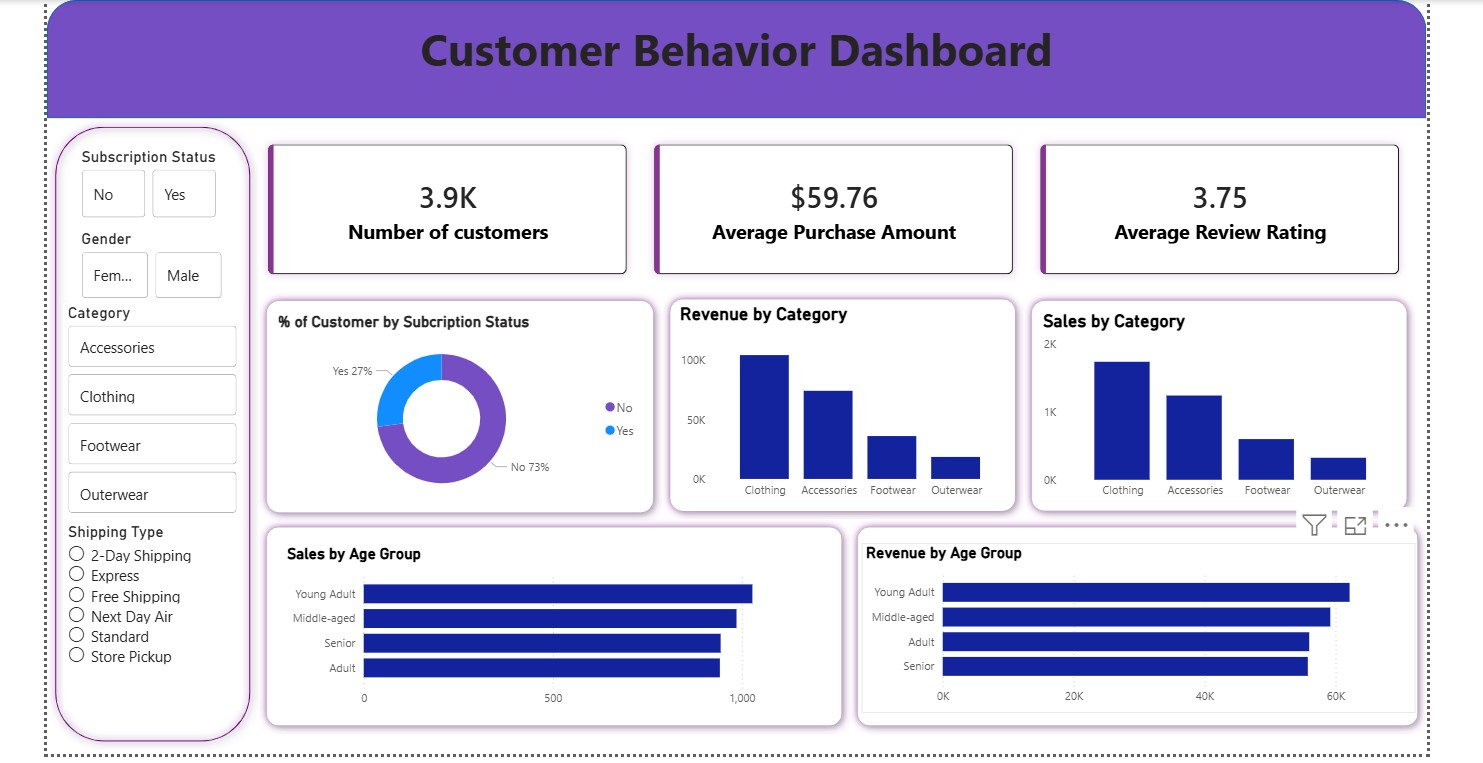

What the dashboard file says about the page in this screenshot:
{"tool":"powerbi","page":{"name":"Page 1","canvas":[1500,820],"ordinal":0},"visuals":[{"type":"cardVisual","fields":{"Data":["customer.Number of customers","customer.Average Purchase Amount","customer.Average Review Rating"]},"box":[211.9,128.6,1288,197.5],"z":0},{"type":"shape","box":[0,0,1499.9,128.6],"z":1000},{"type":"textbox","box":[0,14.5,1499.9,114.1],"z":2000},{"type":"shape","box":[1061.6,318.8,425.7,246.4],"z":3000},{"type":"shape","box":[668.5,317,393.1,248.2],"z":4000},{"type":"clusteredColumnChart","title":"Revenue by Category","fields":{"Y":["Sum(customer.purachase_amount)"],"Category":["customer.category"]},"box":[682.9,329.7,365.9,221],"z":5000},{"type":"clusteredColumnChart","title":"Sales by Category","fields":{"Y":["CountNonNull(customer.customer_id)"],"Category":["customer.category"]},"box":[1077.9,336.9,394.9,213.8],"z":6000},{"type":"shape","box":[0,128.6,230.1,686.6],"z":7000},{"type":"advancedSlicerVisual","fields":{"Values":["customer.subscription_status"]},"box":[32.6,159.4,157.6,81.5],"z":8000},{"type":"shape","box":[230.1,318.8,438.4,248.2],"z":9000},{"type":"donutChart","title":"% of Customer by Subcription Status","fields":{"Y":["CountNonNull(customer.customer_id)"],"Category":["customer.subscription_status"]},"box":[246.4,338.8,405.8,211.9],"z":10000},{"type":"advancedSlicerVisual","fields":{"Values":["customer.gender"]},"box":[32.6,250,163,79.7],"z":11000},{"type":"advancedSlicerVisual","fields":{"Values":["customer.category"]},"box":[18.1,329.7,193.8,237.3],"z":12000},{"type":"listSlicer","fields":{"Values":["customer.shipping_type"]},"box":[18.1,567,193.8,204.7],"z":13000},{"type":"shape","box":[873.2,565.2,626.8,233.7],"z":14000},{"type":"shape","box":[230.1,565.2,643.1,233.7],"z":15000},{"type":"clusteredBarChart","title":"Sales by Age Group","fields":{"Y":["CountNonNull(customer.customer_id)"],"Category":["customer.age_group"]},"box":[255.4,592.4,601.4,184.8],"z":16000},{"type":"clusteredBarChart","title":"Revenue by Age Group","fields":{"Y":["Sum(customer.purachase_amount)"],"Category":["customer.age_group"]},"box":[885.8,590.6,601.4,184.8],"z":17000}]}

Visuals, with their boxes in screenshot pixels (x1, y1, x2, y2):
cardVisual - customer.Number of customers x customer.Average Purchase Amount: {"x1": 245, "y1": 114, "x2": 1430, "y2": 296}
shape: {"x1": 50, "y1": 0, "x2": 1430, "y2": 114}
textbox: {"x1": 50, "y1": 9, "x2": 1430, "y2": 114}
shape: {"x1": 1026, "y1": 289, "x2": 1418, "y2": 516}
shape: {"x1": 665, "y1": 288, "x2": 1026, "y2": 516}
"Revenue by Category" clusteredColumnChart: {"x1": 678, "y1": 299, "x2": 1015, "y2": 503}
"Sales by Category" clusteredColumnChart: {"x1": 1041, "y1": 306, "x2": 1405, "y2": 503}
shape: {"x1": 50, "y1": 114, "x2": 262, "y2": 746}
advancedSlicerVisual - customer.subscription_status: {"x1": 80, "y1": 143, "x2": 225, "y2": 218}
shape: {"x1": 262, "y1": 289, "x2": 665, "y2": 518}
"% of Customer by Subcription Status" donutChart: {"x1": 277, "y1": 308, "x2": 650, "y2": 503}
advancedSlicerVisual - customer.gender: {"x1": 80, "y1": 226, "x2": 230, "y2": 299}
advancedSlicerVisual - customer.category: {"x1": 67, "y1": 299, "x2": 245, "y2": 518}
listSlicer - customer.shipping_type: {"x1": 67, "y1": 518, "x2": 245, "y2": 706}
shape: {"x1": 853, "y1": 516, "x2": 1430, "y2": 731}
shape: {"x1": 262, "y1": 516, "x2": 853, "y2": 731}
"Sales by Age Group" clusteredBarChart: {"x1": 285, "y1": 541, "x2": 838, "y2": 711}
"Revenue by Age Group" clusteredBarChart: {"x1": 865, "y1": 539, "x2": 1418, "y2": 709}
